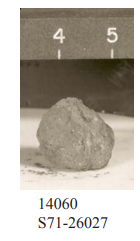Breccia: (38, 97, 103, 173)
